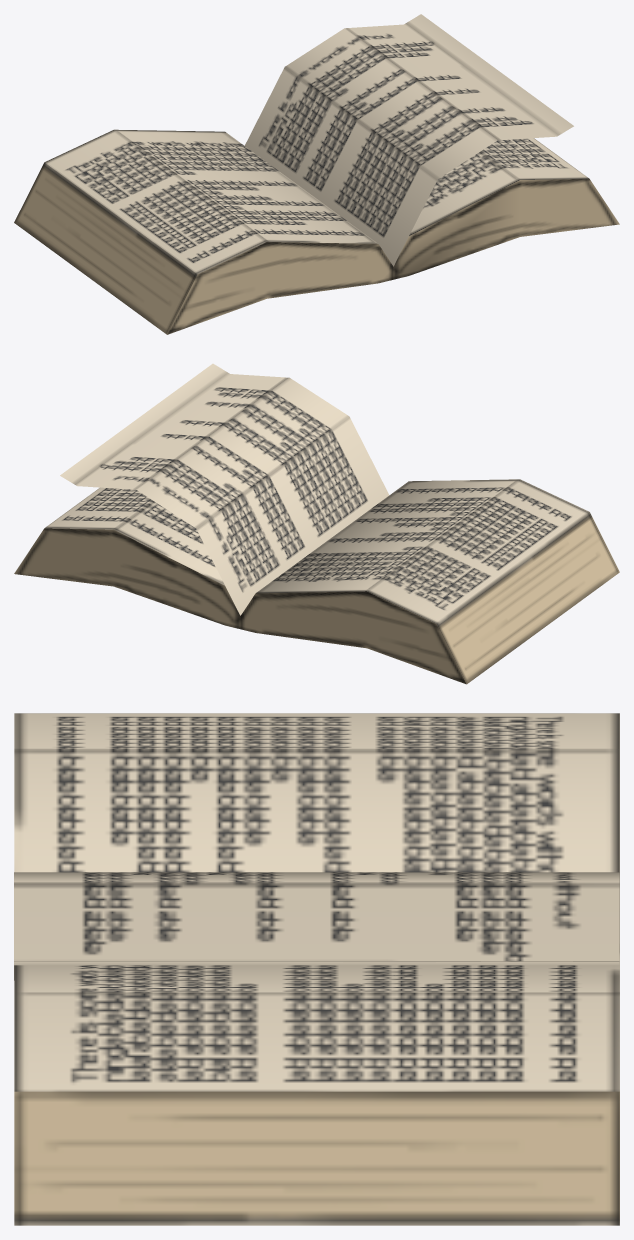
Rendered from Book_Open.FBX.
3 views of the same model, one above another, from view 1: azimuth 30°, elevation 25°; view 2: azimuth 150°, elevation 25°; view 3: azimuth 270°, elevation 25° (orthographic). The views are drawn at different scales.
Visible parts, largest first — view 1: Box009; view 2: Box009; view 3: Box009.
Boxes of the visible parts, box(x1,y1,x2,y2) form: Box009: box(14, 14, 619, 334); Box009: box(14, 363, 619, 684); Box009: box(14, 713, 619, 1225).
Size of the model in its own units: 95.13 by 22.88 by 55.79.
